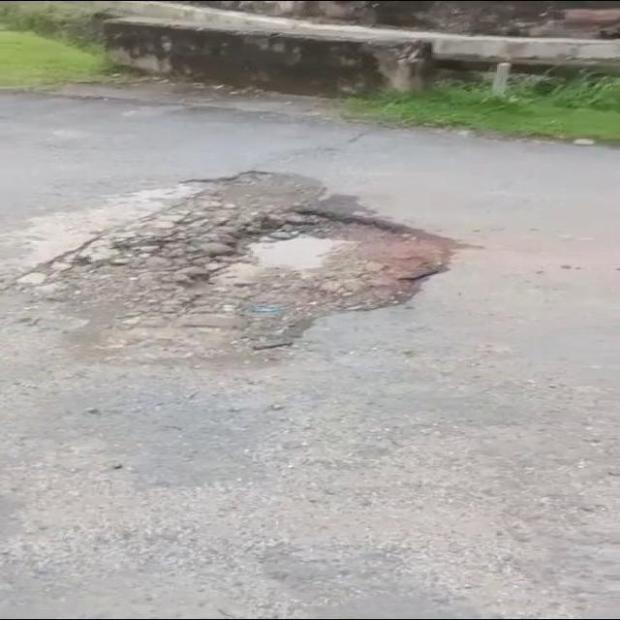lubang: (13, 171, 453, 359)
